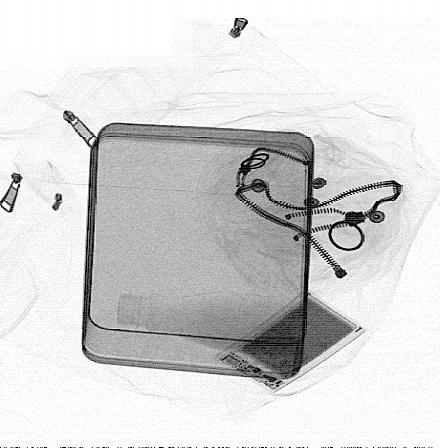Powerbank: (214, 288, 367, 394)
